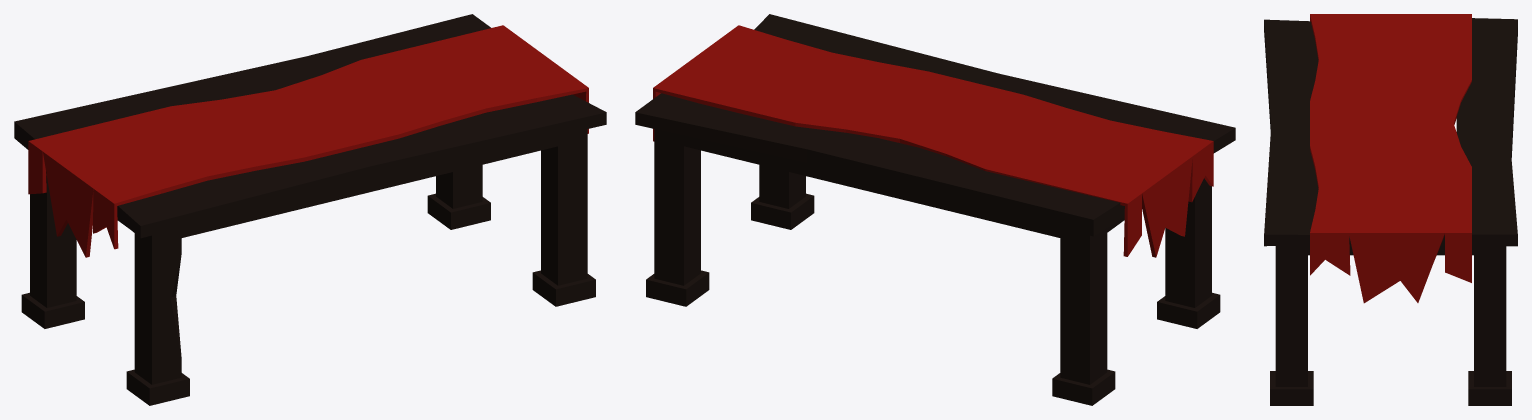
The model's file is table_cloth.obj.
3 views of the same model, side by side, from view 1: azimuth 30°, elevation 25°; view 2: azimuth 150°, elevation 25°; view 3: azimuth 270°, elevation 25° (orthographic). The views are drawn at different scales.
Visible parts, largest first — view 1: table_cloth_Cube.019_redWood, table_cloth_Cube.019_clothRed; view 2: table_cloth_Cube.019_redWood, table_cloth_Cube.019_clothRed; view 3: table_cloth_Cube.019_clothRed, table_cloth_Cube.019_redWood.
Boxes of the visible parts, <box> form: table_cloth_Cube.019_redWood: <box>14,14,606,405</box>; table_cloth_Cube.019_clothRed: <box>28,25,588,257</box>; table_cloth_Cube.019_redWood: <box>635,14,1235,405</box>; table_cloth_Cube.019_clothRed: <box>653,25,1213,257</box>; table_cloth_Cube.019_clothRed: <box>1310,14,1471,303</box>; table_cloth_Cube.019_redWood: <box>1264,18,1517,405</box>.
Bounding box in the file's own units: 2.84 × 1.09 × 1.39.
